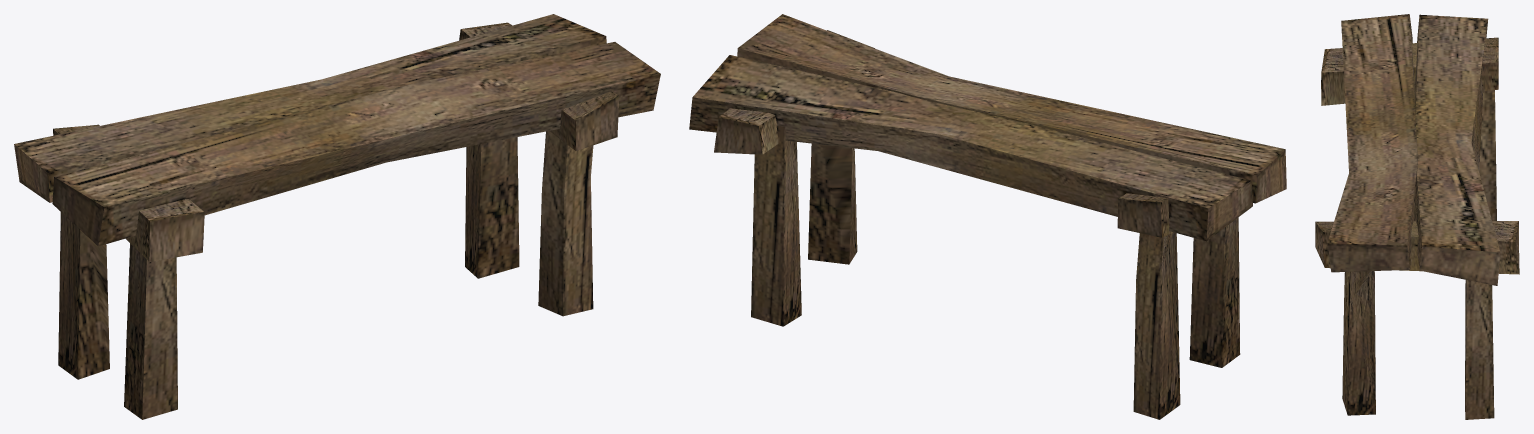
The picture shows the model from 3 angles, left to right: view 1: azimuth 30°, elevation 25°; view 2: azimuth 150°, elevation 25°; view 3: azimuth 270°, elevation 25°; orthographic projection. The views are drawn at different scales.
Visible parts, largest first — view 1: LV_Common_Object_A_AssemblyWoodChair01_SM_CNH; view 2: LV_Common_Object_A_AssemblyWoodChair01_SM_CNH; view 3: LV_Common_Object_A_AssemblyWoodChair01_SM_CNH.
Part boxes in pixels (left/top/right/bottom): LV_Common_Object_A_AssemblyWoodChair01_SM_CNH: left=14, top=14, right=660, bottom=419; LV_Common_Object_A_AssemblyWoodChair01_SM_CNH: left=689, top=14, right=1286, bottom=419; LV_Common_Object_A_AssemblyWoodChair01_SM_CNH: left=1315, top=14, right=1519, bottom=419.
Size of the model in its own units: 0.3247 by 0.1336 by 0.121.
